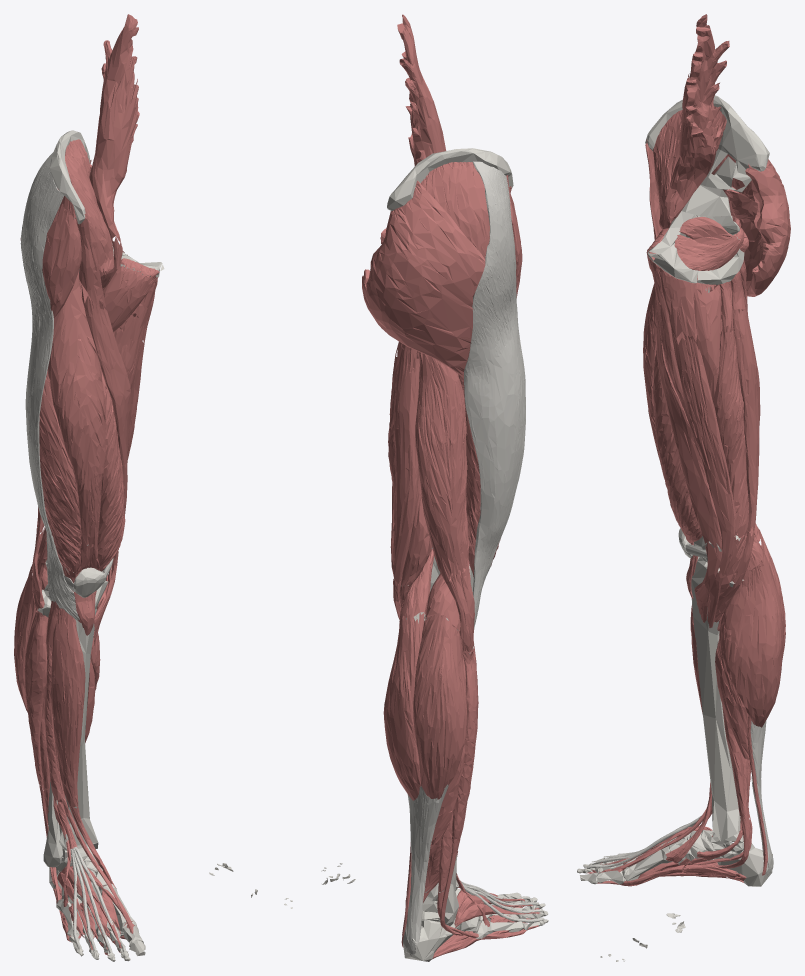
File: v3-musc-leg.glb
The picture shows the model from 3 angles, left to right: view 1: azimuth 30°, elevation 25°; view 2: azimuth 150°, elevation 25°; view 3: azimuth 270°, elevation 25°; orthographic projection. The views are drawn at different scales.
Parts seen in each view (by area): view 1: Rectus femoris muscle.r#95, Iliotibial tract.r#10, Psoas major.r#16, Tibialis anterior muscle.r#64, Vastus lateralis muscle.r#93, Sartorius muscle.r#88, Vastus medialis muscle.r#92, Tensor fasciae latae.r#8, Iliacus muscle.r#17, Fibularis longus muscle.r#57, Tibia.r#188, Pectineus muscle.r#73 (+15 smaller); view 2: Iliotibial tract.r#10, Gluteus maximus muscle.r#12, Long head of biceps femoris.r#86, Lateral head of gastrocnemius.r#53, Medial head of gastrocnemius.r#51, Semitendinosus muscle.r#80, Gluteus medius muscle.r#13, Calcaneal tendon.r#50, Psoas major.r#16, Semimembranosus muscle.r#82, Fibularis longus muscle.r#57, Hip bone.r#197 (+15 smaller); view 3: Medial head of gastrocnemius.r#51, Psoas major.r#16, Tibia.r#188, Gracilis muscle.r#70, Gluteus maximus muscle.r#12, Hip bone.r#197, Semimembranosus muscle.r#82, Sartorius muscle.r#88, Semitendinosus muscle.r#80, Vastus medialis muscle.r#92, Obturator internus.r#3, Adductor magnus.r#77 (+21 smaller).
Boxes of the visible parts, x1,y1,x2,y2 form: Rectus femoris muscle.r#95: [47, 273, 105, 552]; Iliotibial tract.r#10: [20, 153, 79, 619]; Psoas major.r#16: [89, 14, 139, 251]; Tibialis anterior muscle.r#64: [51, 608, 85, 807]; Vastus lateralis muscle.r#93: [39, 371, 81, 572]; Sartorius muscle.r#88: [81, 285, 131, 515]; Vastus medialis muscle.r#92: [93, 371, 125, 571]; Tensor fasciae latae.r#8: [42, 204, 81, 318]; Iliacus muscle.r#17: [65, 139, 114, 290]; Fibularis longus muscle.r#57: [24, 607, 48, 789]; Tibia.r#188: [44, 580, 108, 851]; Pectineus muscle.r#73: [99, 265, 155, 331]; Iliotibial tract.r#10: [464, 161, 525, 629]; Gluteus maximus muscle.r#12: [362, 180, 485, 378]; Long head of biceps femoris.r#86: [415, 352, 469, 583]; Lateral head of gastrocnemius.r#53: [413, 613, 466, 799]; Medial head of gastrocnemius.r#51: [383, 609, 425, 800]; Semitendinosus muscle.r#80: [393, 345, 422, 583]; Gluteus medius muscle.r#13: [420, 162, 489, 259]; Calcaneal tendon.r#50: [402, 784, 449, 954]; Psoas major.r#16: [397, 14, 446, 166]; Semimembranosus muscle.r#82: [388, 350, 431, 586]; Fibularis longus muscle.r#57: [452, 649, 478, 842]; Hip bone.r#197: [387, 148, 513, 210]; Medial head of gastrocnemius.r#51: [719, 549, 783, 727]; Psoas major.r#16: [664, 14, 729, 221]; Tibia.r#188: [691, 557, 743, 841]; Gracilis muscle.r#70: [671, 329, 735, 575]; Gluteus maximus muscle.r#12: [739, 159, 790, 296]; Hip bone.r#197: [645, 95, 769, 216]; Semimembranosus muscle.r#82: [713, 323, 752, 538]; Sartorius muscle.r#88: [655, 294, 721, 549]; Semitendinosus muscle.r#80: [731, 306, 759, 531]; Vastus medialis muscle.r#92: [653, 350, 702, 575]; Obturator internus.r#3: [674, 216, 740, 270]; Adductor magnus.r#77: [684, 285, 722, 420].
Size of the model in its own units: 0.266 by 0.9999 by 0.2173.
